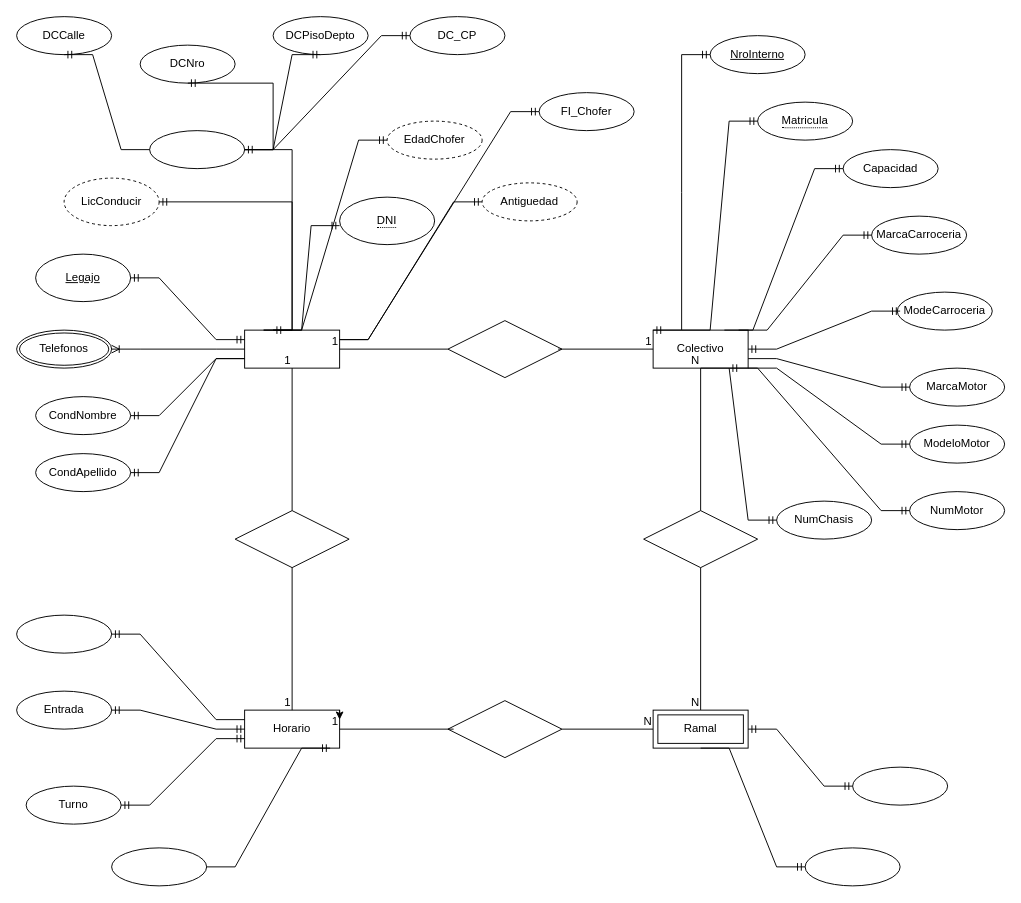
This 1021x903 diagram has some shape labels left out. The shapes that lost their labels are listed below. From the top down, each one's box as (x1, y1, x2, y2) in pixels, then its label:
(149, 130, 245, 169): DomChofer
(244, 329, 340, 368): Chofer
(447, 320, 562, 378): Conduce
(234, 510, 349, 568): Tiene
(643, 510, 758, 568): Tienen
(16, 614, 112, 653): Salida
(447, 700, 562, 758): Hay
(852, 766, 948, 805): Descripcion
(111, 847, 207, 886): DescTurno
(804, 847, 900, 886): IDRamal
